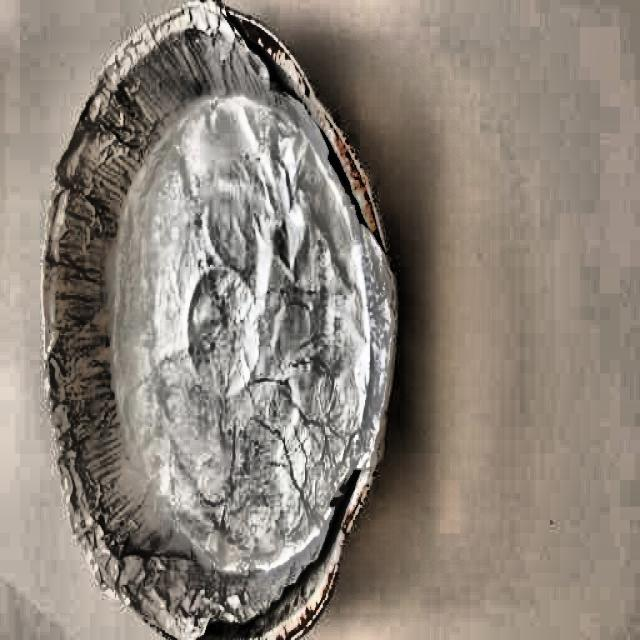metal: (43, 1, 399, 640)
